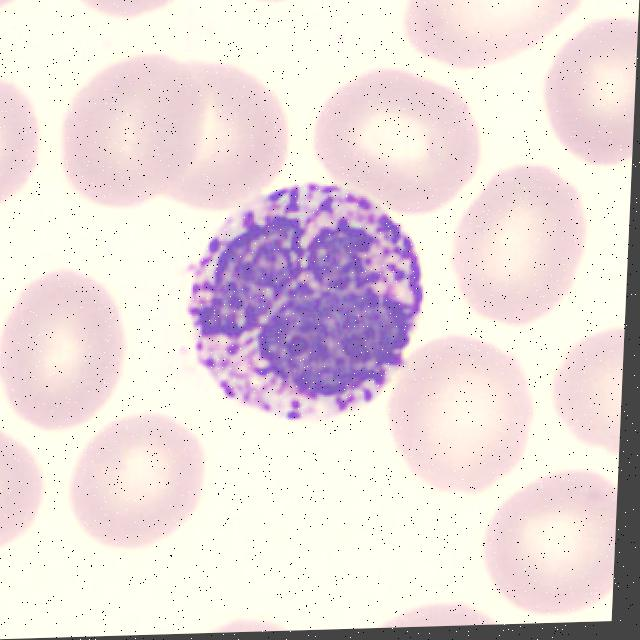basophil: (168, 165, 441, 433)
rbc: (129, 58, 303, 225), (299, 72, 491, 223), (375, 338, 546, 501), (51, 53, 209, 227), (0, 261, 135, 447), (56, 412, 217, 560), (452, 163, 595, 329), (475, 471, 618, 618), (532, 11, 639, 178), (398, 0, 601, 75), (544, 316, 625, 490), (0, 61, 52, 226), (0, 418, 56, 570), (359, 589, 514, 629), (64, 0, 204, 35), (187, 599, 308, 634), (227, 0, 335, 28), (0, 0, 38, 30)
